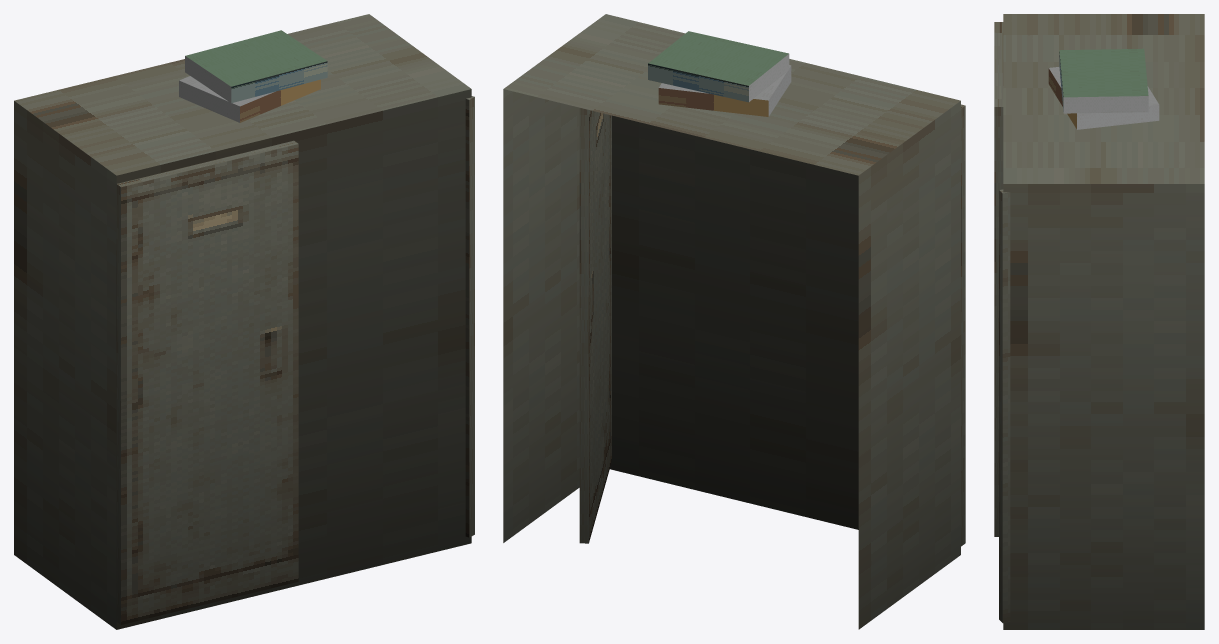
File: prop_cabinet-5.glb
3 renders of one model, left to right at view 1: azimuth 30°, elevation 25°; view 2: azimuth 150°, elevation 25°; view 3: azimuth 270°, elevation 25°, orthographic.
Parts seen in each view (by area): view 1: prop_cabinet-5; view 2: prop_cabinet-5; view 3: prop_cabinet-5.
Boxes of the visible parts, x1,y1,x2,y2 form: prop_cabinet-5: [14, 14, 474, 629]; prop_cabinet-5: [503, 14, 965, 629]; prop_cabinet-5: [994, 14, 1204, 629].
Size of the model in its own units: 0.9072 by 1.18 by 0.47.
6 materials, 6 textured.
